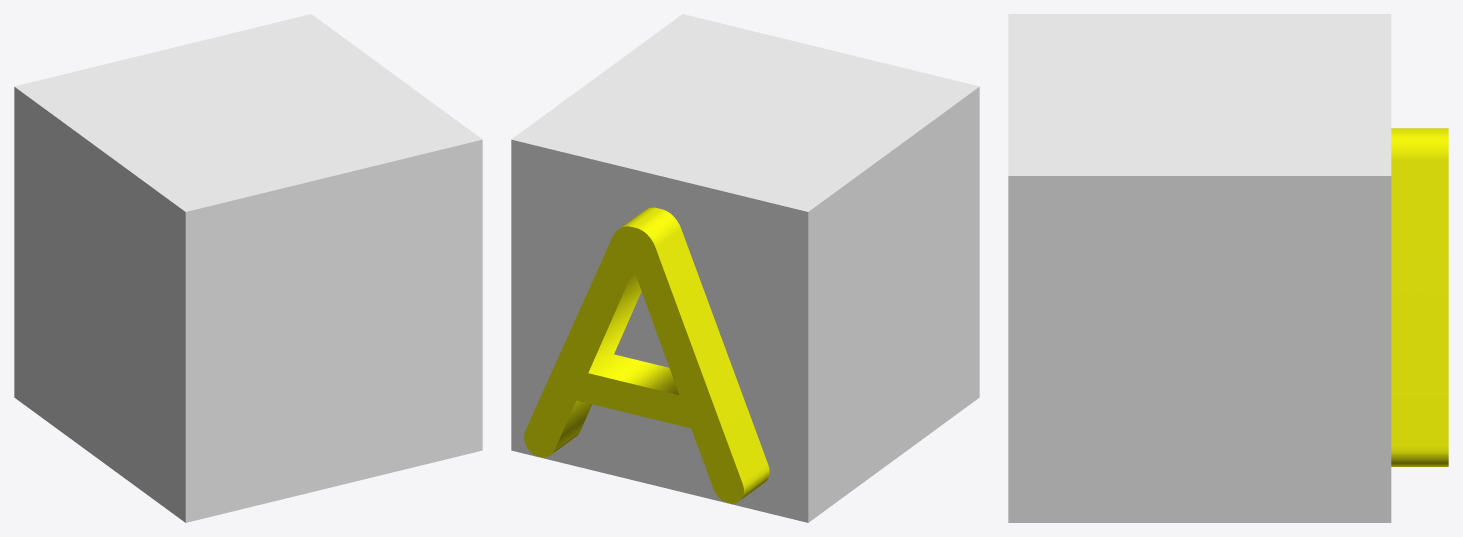
3 renders of one model, left to right at view 1: azimuth 30°, elevation 25°; view 2: azimuth 150°, elevation 25°; view 3: azimuth 270°, elevation 25°, orthographic. The views are drawn at different scales.
Visible parts, largest first — view 1: 立方体; view 2: 立方体, テキスト; view 3: 立方体, テキスト.
Part boxes in pixels (x1,y1,x2,y2): 立方体: (14,14,482,522); 立方体: (511,14,979,522); テキスト: (524,207,769,503); 立方体: (1008,14,1391,522); テキスト: (1391,128,1448,466).
Bounding box in the file's own units: 2 × 2 × 2.3.
1 material, 1 textured.
